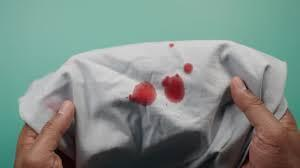blood: (162, 75, 185, 102), (129, 82, 157, 104), (184, 63, 192, 74)
